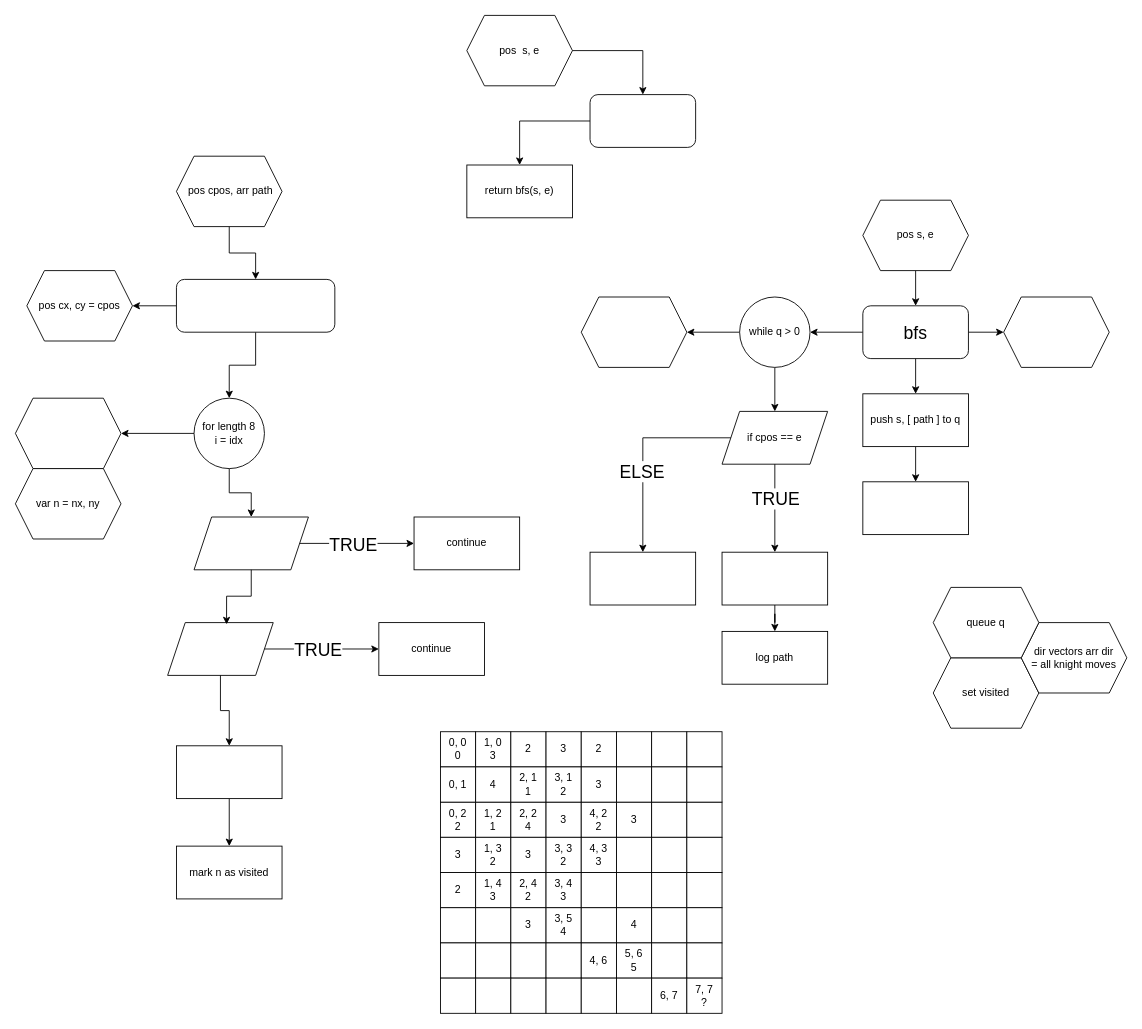
This 1142x1029 diagram has some shape labels left out. The centre of each missing label's shape, as x and y in pixels:
"arr path" goes at pixel 1056 331.
"exploreNeighbors" goes at pixel 255 305.
"exploreNeighbors (cpos, path)" goes at pixel 642 578.
"if 0 < nx, ny < 7" goes at pixel 220 648.
"if visited contains n" goes at pixel 250 543.
"knightMoves" goes at pixel 642 120.
"log move count" goes at pixel 774 578.
"pos cpos, arr path = dequeue q" goes at pixel 633 331.
"pos nx = c + dir [ x ] pos ny = c + dir [ y ]" goes at pixel 68 433.
"push n, [ path + n] to q" goes at pixel 229 772.
"push s to visited" goes at pixel 915 508.
